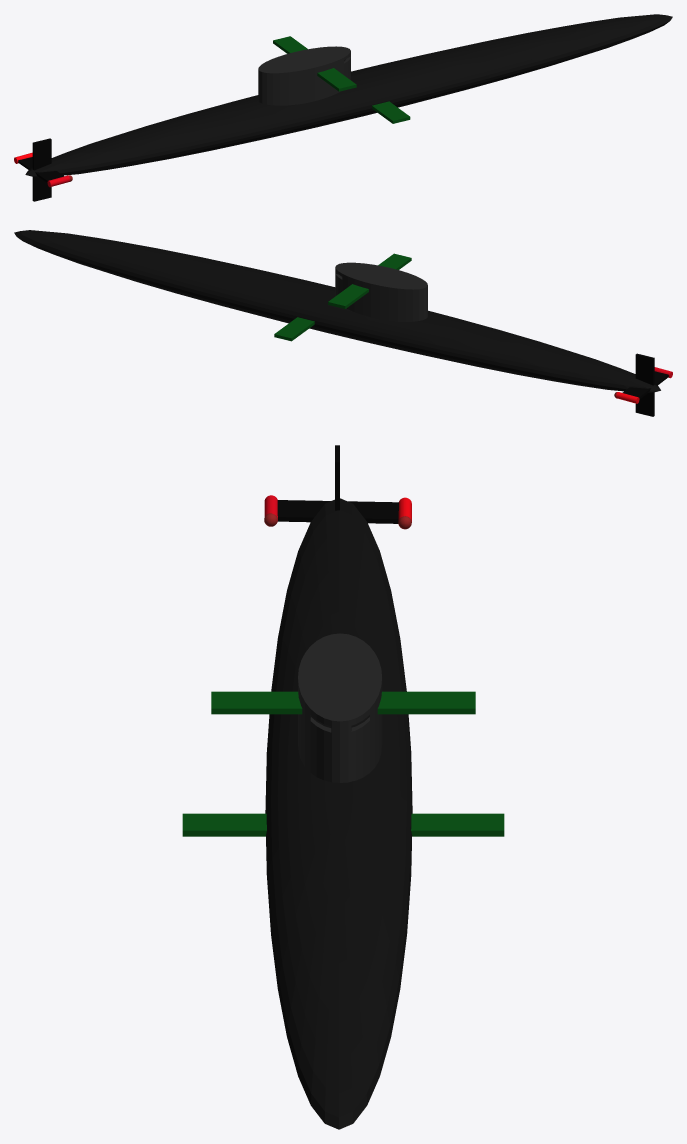
The model's file is russian_sub.glb.
The picture shows the model from 3 angles, top to bottom: view 1: azimuth 30°, elevation 25°; view 2: azimuth 150°, elevation 25°; view 3: azimuth 270°, elevation 25°; orthographic projection. The views are drawn at different scales.
Visible parts, largest first — view 1: Sphere_2, Cylinder_1, Cube_3, Cube.002_8, Cube.003_10, Cube.001_4; view 2: Sphere_2, Cylinder_1, Cube_3, Cube.002_8, Cube.003_10, Cube.001_4; view 3: Sphere_2, Cylinder_1, Cube.002_8, Cube.003_10, Cube.001_4.
Boxes of the visible parts, x1,y1,x2,y2 form: Sphere_2: (25,14,672,177); Cylinder_1: (258,46,350,105); Cube_3: (32,138,51,201); Cube.002_8: (273,36,356,91); Cube.003_10: (372,101,410,123); Cube.001_4: (18,157,63,182); Sphere_2: (14,230,660,392); Cylinder_1: (335,262,427,321); Cube_3: (635,353,654,416); Cube.002_8: (328,253,411,308); Cube.003_10: (274,317,314,341); Cube.001_4: (622,371,668,398); Sphere_2: (265,498,412,1129); Cylinder_1: (298,633,382,782); Cube.002_8: (211,691,475,714); Cube.003_10: (182,813,504,836); Cube.001_4: (277,500,398,523).
Bounding box in the file's own units: 74.14 × 8.17 × 15.95.
